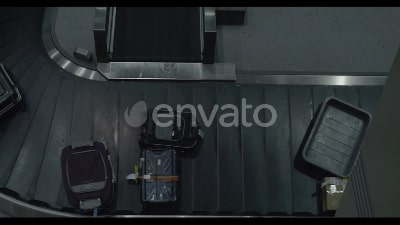baggage: (57, 136, 118, 212), (139, 144, 181, 207), (140, 112, 203, 151)
